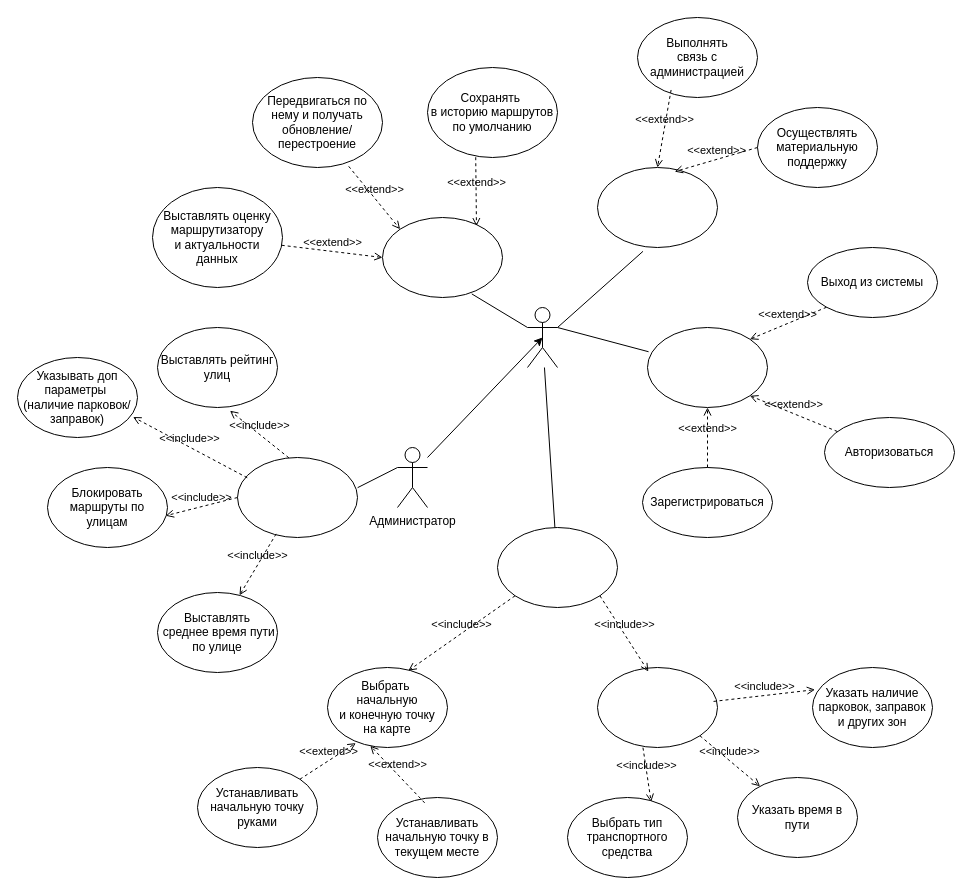
The diagram is 972 pixels wide and 895 high, and some of its shapes have lost their labels. The shapes that lost their labels are listed below. From the top down, each one's centre as x and y in pixels, then its label:
At pixel 657 207: "Давать обратную связь".
At pixel 442 257: "Использовать построенный маршрут".
At pixel 542 337: "Пользователь".
At pixel 707 367: "Управлять своим аккаунтом".
At pixel 297 497: "Управлять настройками текущей карты".
At pixel 557 567: "Строить маршрут между 2 точками".
At pixel 657 707: "Указывать предпочтения по маршруту".
